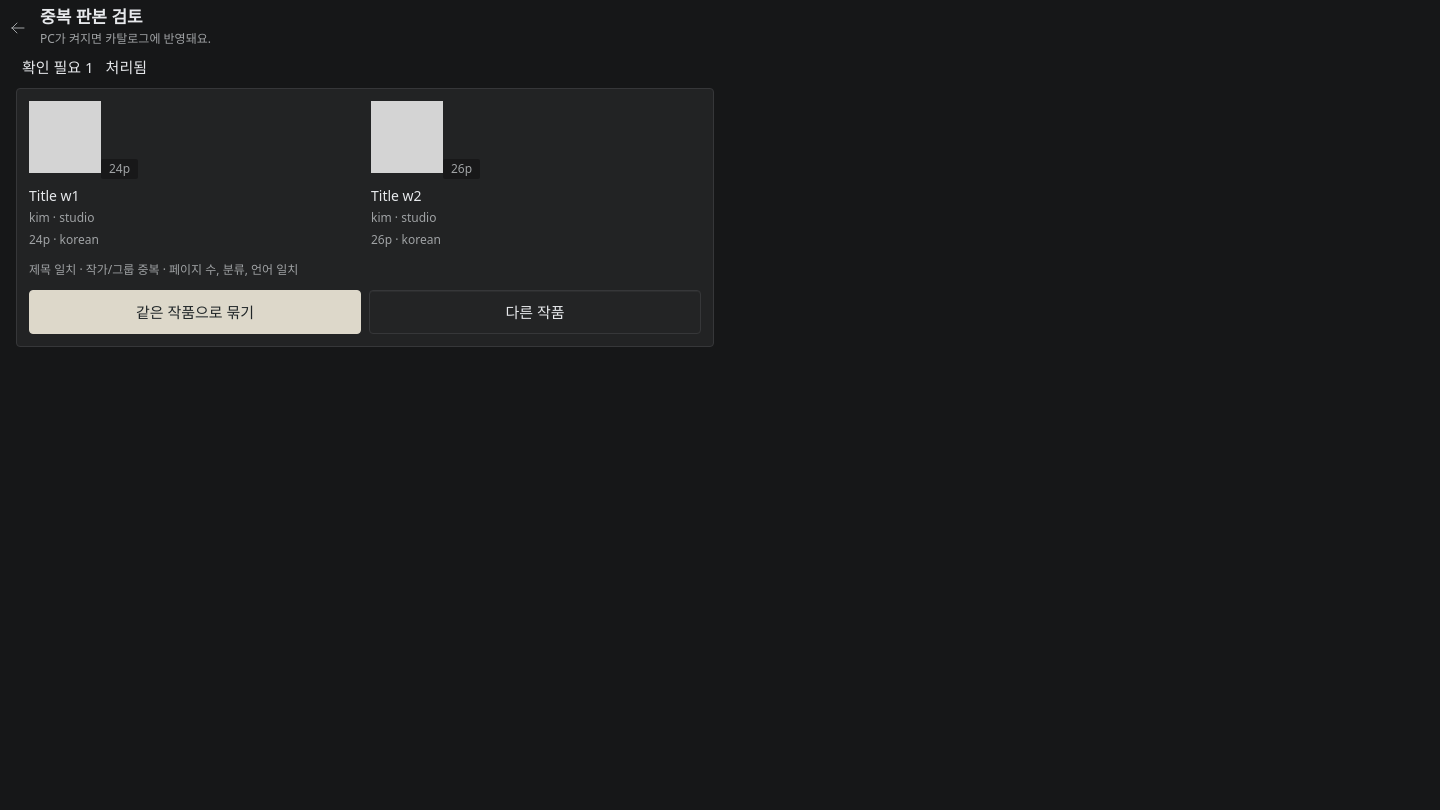
catalog duplicate review › shows the conflict message and re-reads the list when another device decided first
expect the text "Title w1" is shown: met, box [29,186,80,205]
Click the button "같은 작품으로 묶기" at (195, 312), box [29,290,361,334]
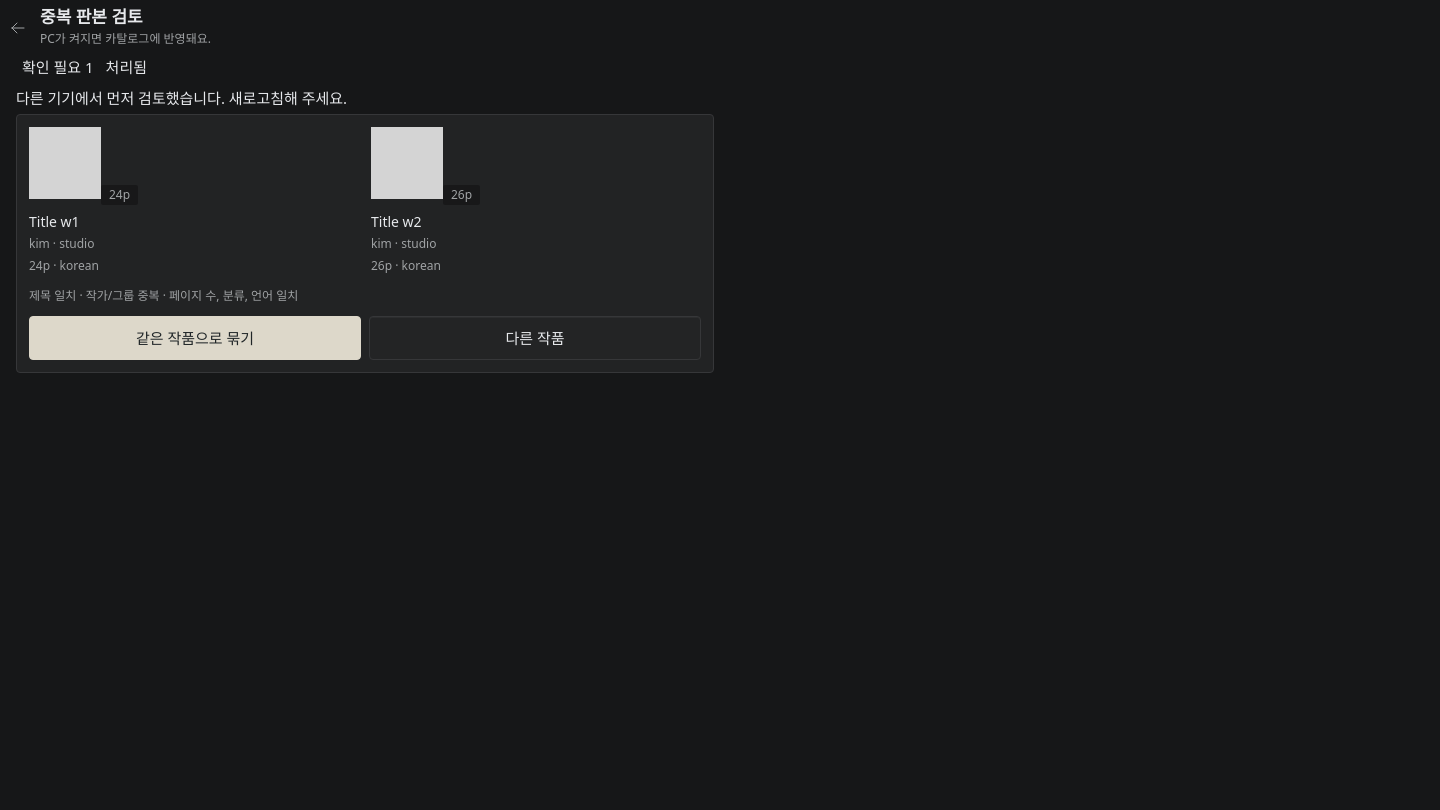
expect the text "Title w1" is shown: met, box [29,212,80,231]
expect the text "다른 기기에서 먼저 검토했습니다. 새로고침해 주세요." is shown: met, box [16,88,347,108]
